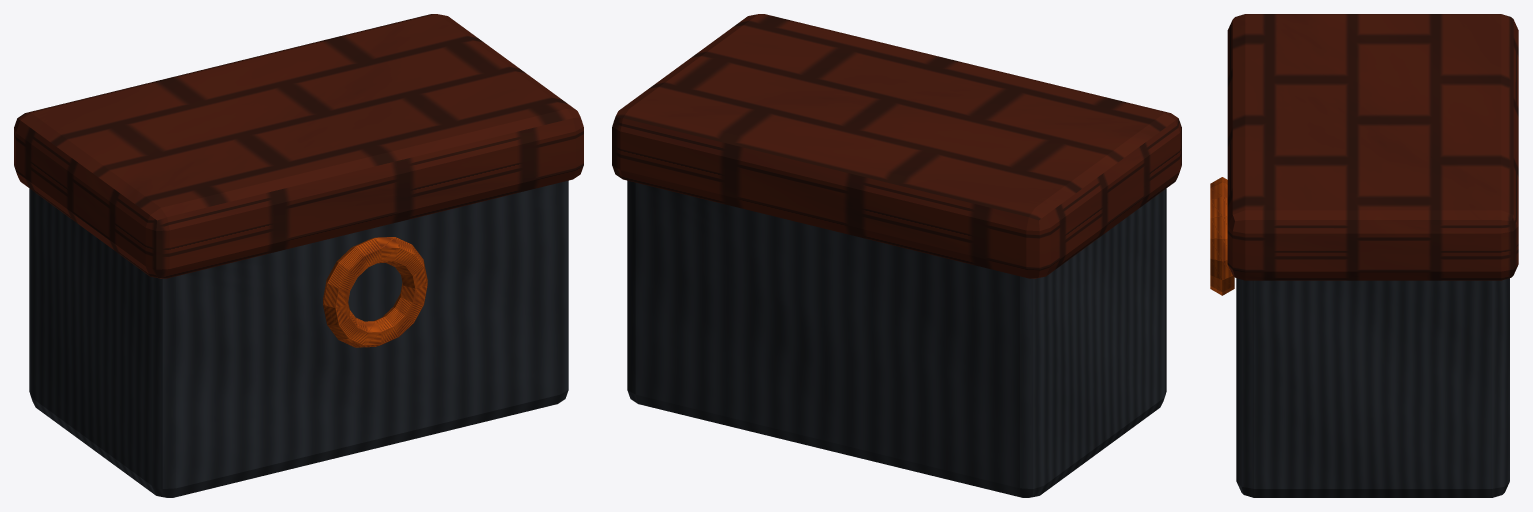
File: SM_FC_RewardChest.glb
3 views of the same model, side by side, from view 1: azimuth 30°, elevation 25°; view 2: azimuth 150°, elevation 25°; view 3: azimuth 270°, elevation 25° (orthographic).
Parts seen in each view (by area): view 1: SM_FC_RewardChest; view 2: SM_FC_RewardChest; view 3: SM_FC_RewardChest.
Boxes of the visible parts, <box> form: SM_FC_RewardChest: <box>14,14,583,497</box>; SM_FC_RewardChest: <box>612,14,1181,497</box>; SM_FC_RewardChest: <box>1210,14,1518,497</box>.
Size of the model in its own units: 1.42 by 0.92 by 0.8796.
3 materials, 3 textured.
